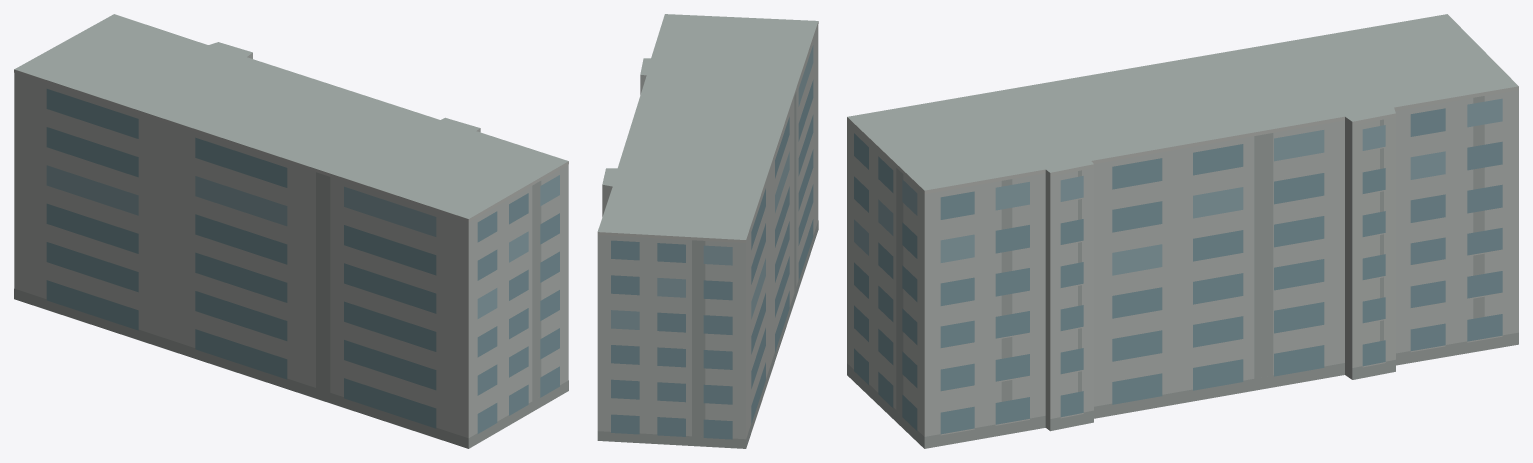
File: survey-upis-32940971.glb
The picture shows the model from 3 angles, left to right: view 1: azimuth 30°, elevation 25°; view 2: azimuth 150°, elevation 25°; view 3: azimuth 270°, elevation 25°; orthographic projection. The views are drawn at different scales.
Parts seen in each view (by area): view 1: survey-upis-32940971.tmp; view 2: survey-upis-32940971.tmp; view 3: survey-upis-32940971.tmp.
Boxes of the visible parts, box(x1,y1,x2,y2) form: survey-upis-32940971.tmp: box(14, 14, 568, 448); survey-upis-32940971.tmp: box(597, 14, 818, 448); survey-upis-32940971.tmp: box(847, 14, 1518, 448).
Size of the model in its own units: 24.72 by 16.85 by 39.73.
